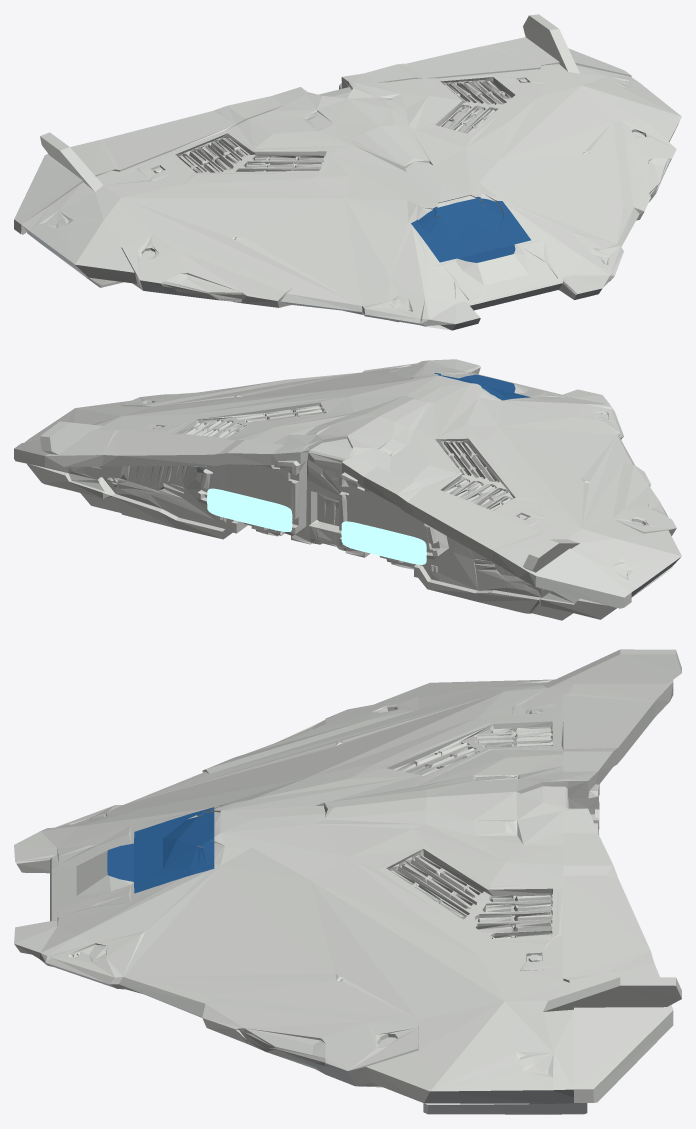
Rendered from cobra-mk4.glb.
3 renders of one model, top to bottom at view 1: azimuth 30°, elevation 25°; view 2: azimuth 150°, elevation 25°; view 3: azimuth 270°, elevation 25°, orthographic. The views are drawn at different scales.
Parts seen in each view (by area): view 1: cobra-mk4; view 2: cobra-mk4; view 3: cobra-mk4.
Part boxes in pixels (<box>): cobra-mk4: <box>14,14,681,330</box>; cobra-mk4: <box>14,359,681,620</box>; cobra-mk4: <box>14,649,681,1114</box>.
Size of the model in its own units: 48.09 by 8.61 by 33.02.
